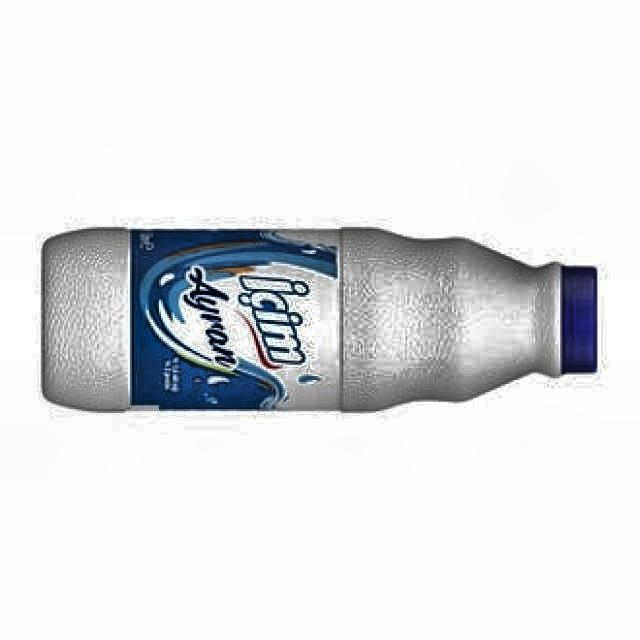plastic: (42, 229, 598, 411)
